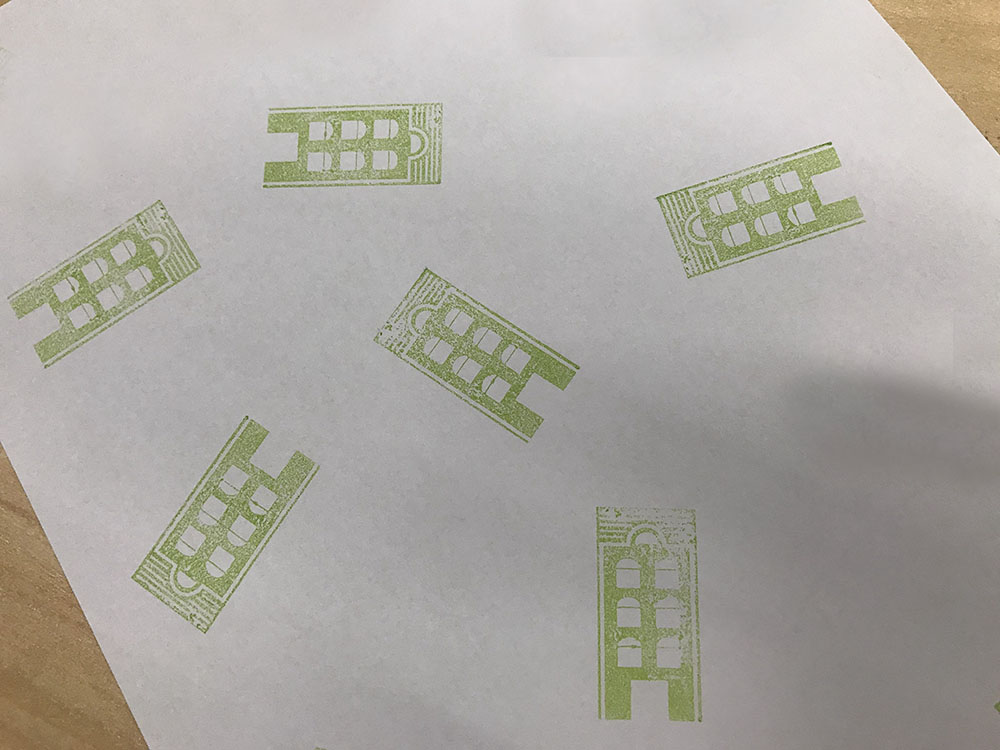build: (103, 391, 332, 652), (361, 251, 591, 466), (623, 115, 894, 296), (1, 178, 211, 382), (580, 492, 717, 733), (247, 87, 462, 216)
